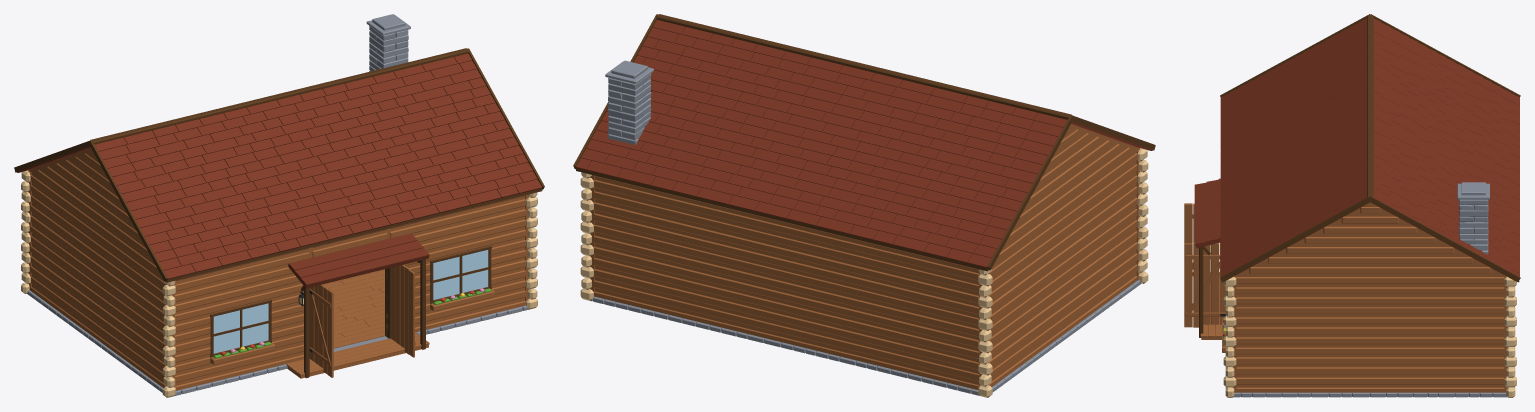
Rendered from ToolShedShell.fbx.
3 views of the same model, side by side, from view 1: azimuth 30°, elevation 25°; view 2: azimuth 150°, elevation 25°; view 3: azimuth 270°, elevation 25° (orthographic). The views are drawn at different scales.
Visible parts, largest first — view 1: Roof, Wall.001, Wall.003, Wall.004, Trim, Gable, Door, Glass, Awning, Corner, Floor, Foundation (+5 smaller); view 2: Roof, Wall, Wall.001, Trim, Gable, Corner, Foundation, Chimney; view 3: Roof, Wall.002, Gable, Trim, Door, Corner, Chimney, Awning, Foundation, Porch.
Part boxes in pixels (box(x1,y1,x2,y2)): Roof: box(18, 53, 542, 279); Wall.001: box(30, 173, 174, 387); Wall.003: box(166, 247, 310, 390); Wall.004: box(386, 195, 525, 337); Trim: box(14, 48, 544, 378); Gable: box(28, 148, 153, 262); Door: box(309, 264, 415, 377); Glass: box(213, 250, 488, 353); Awning: box(288, 233, 429, 288); Corner: box(21, 170, 537, 397); Floor: box(322, 269, 385, 348); Foundation: box(27, 290, 528, 396); Roof: box(576, 20, 1151, 267); Wall: box(594, 175, 988, 389); Wall.001: box(979, 151, 1137, 386); Trim: box(573, 14, 1155, 271); Gable: box(1002, 124, 1139, 249); Corner: box(580, 148, 1148, 397); Foundation: box(591, 280, 1141, 395); Chimney: box(605, 60, 653, 144); Roof: box(1220, 18, 1519, 281); Wall.002: box(1236, 275, 1504, 392); Gable: box(1236, 202, 1504, 275); Trim: box(1199, 14, 1520, 337); Door: box(1184, 203, 1225, 327); Corner: box(1223, 276, 1516, 397); Chimney: box(1457, 182, 1489, 254); Awning: box(1194, 178, 1220, 248); Foundation: box(1233, 392, 1507, 397); Porch: box(1200, 276, 1221, 339).
Bounding box in the file's own units: 58.6 × 30.42 × 45.5.
